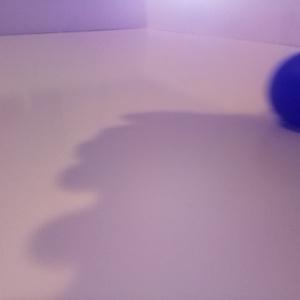dead_ball: (269, 52, 300, 129)
